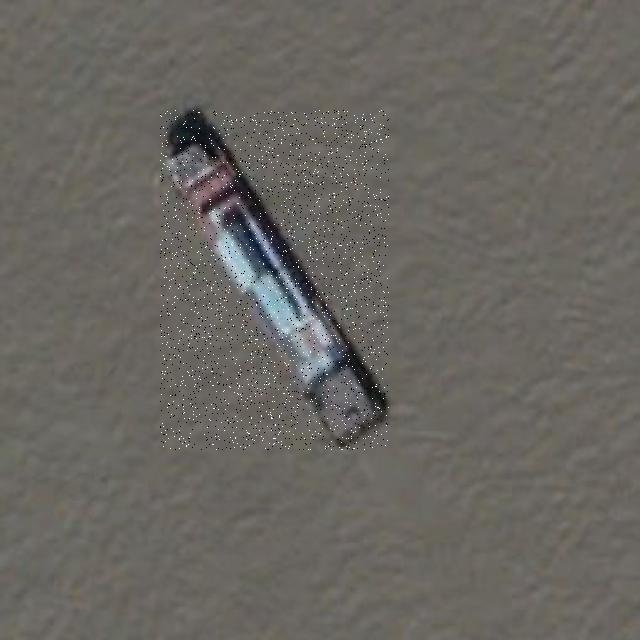boat: (160, 110, 389, 450)
